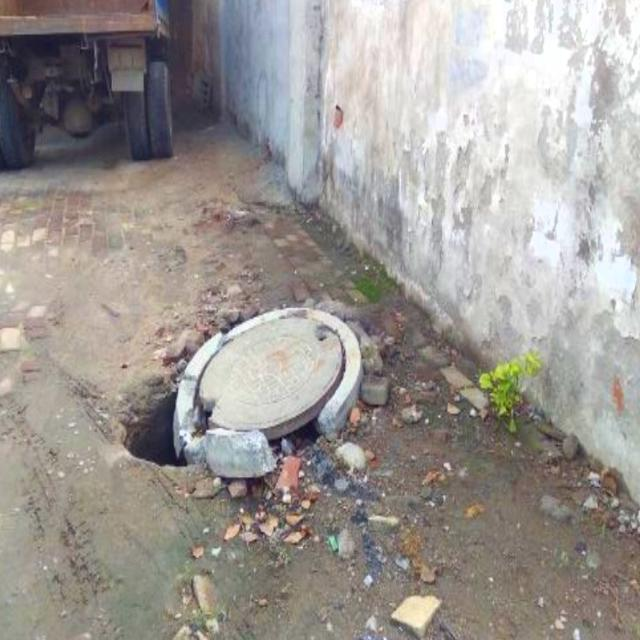circle: (140, 304, 366, 482)
